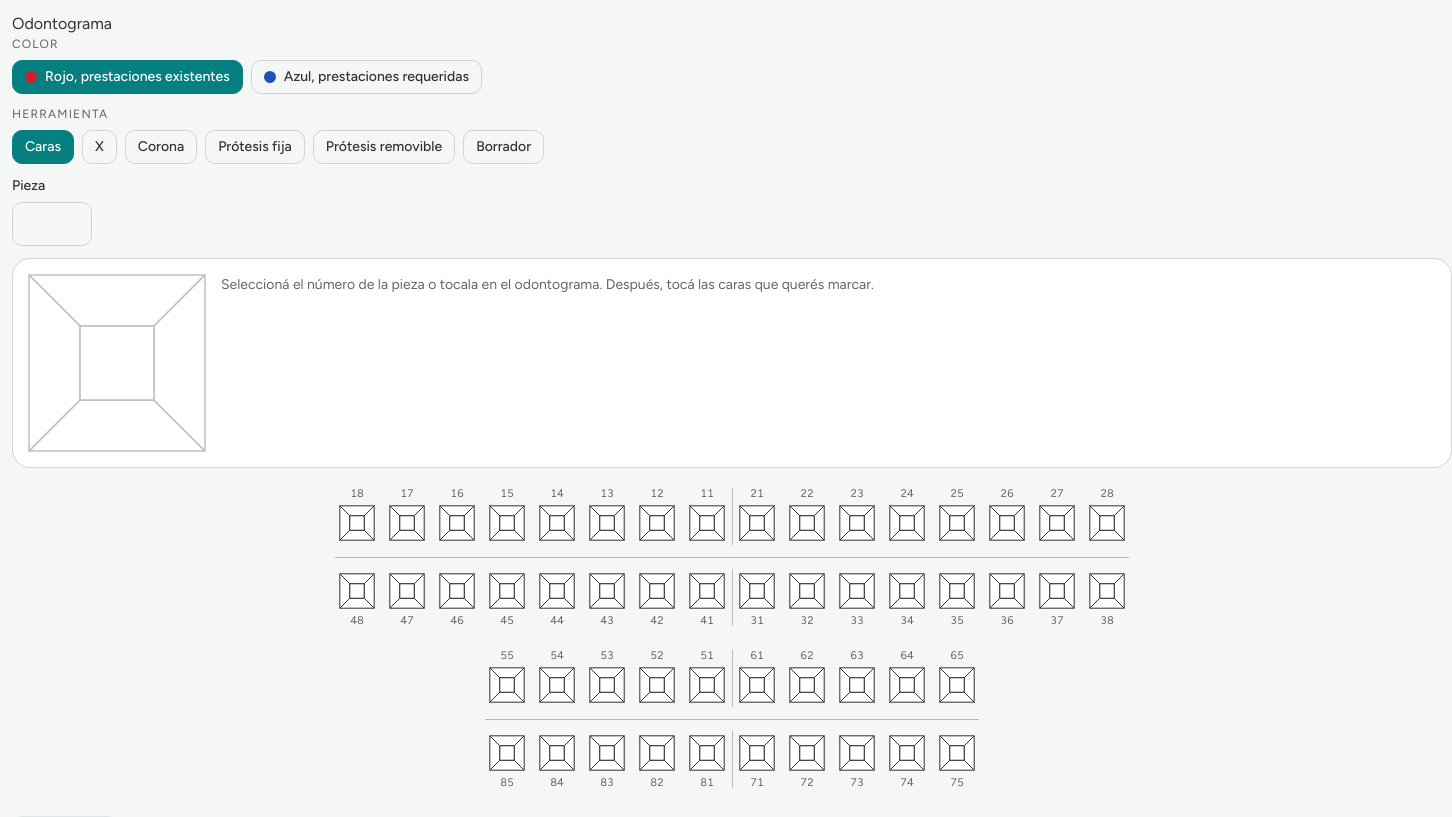
Test case: CampoOdontograma › tocar la pieza en el dibujo la selecciona, sin pintar nada
Click the button "26" at (1007, 516), box [985,488,1029,545]
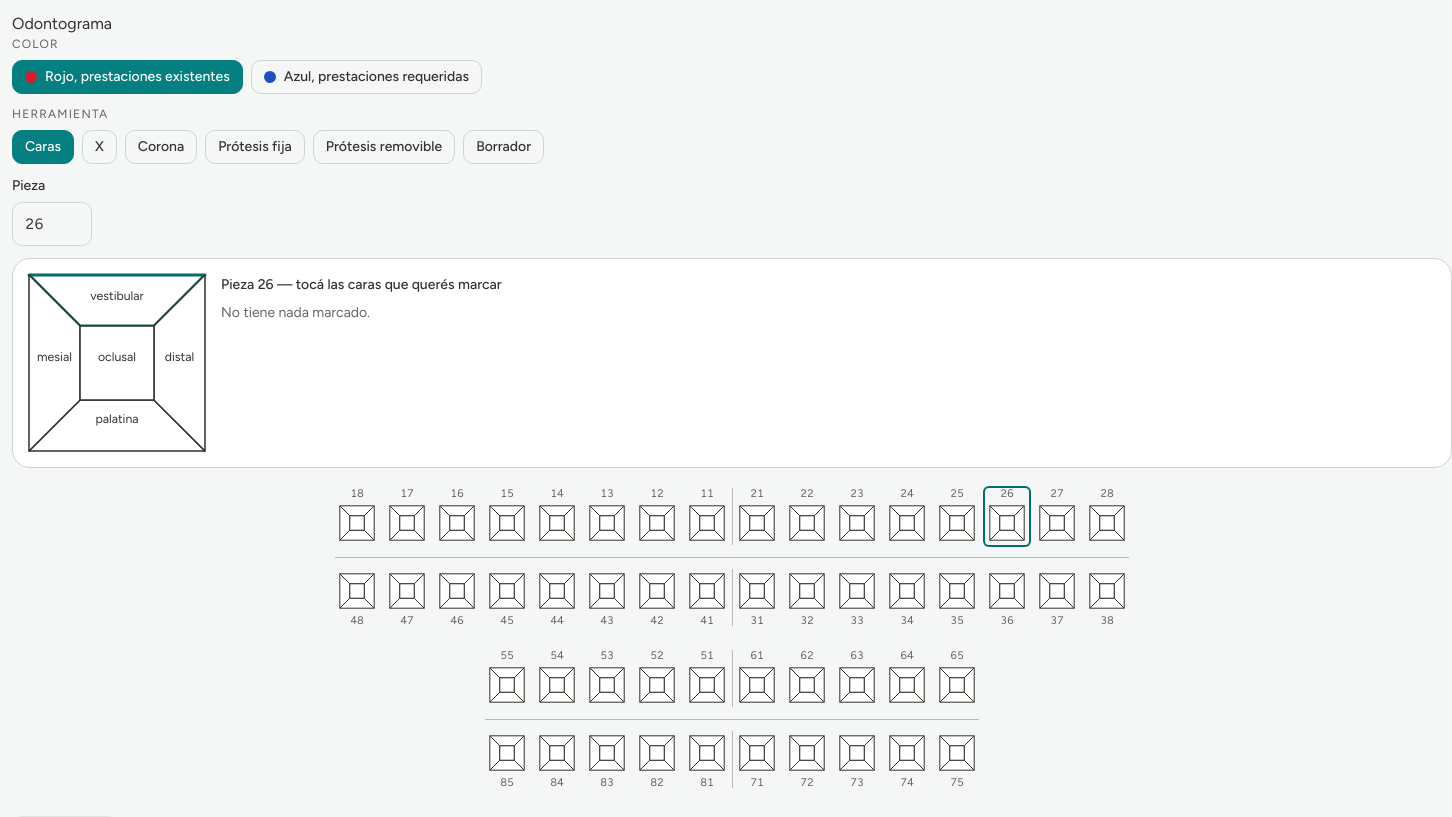
expect the icon named "Caras de la pieza 26" is shown: met, box [29,275,205,451]
